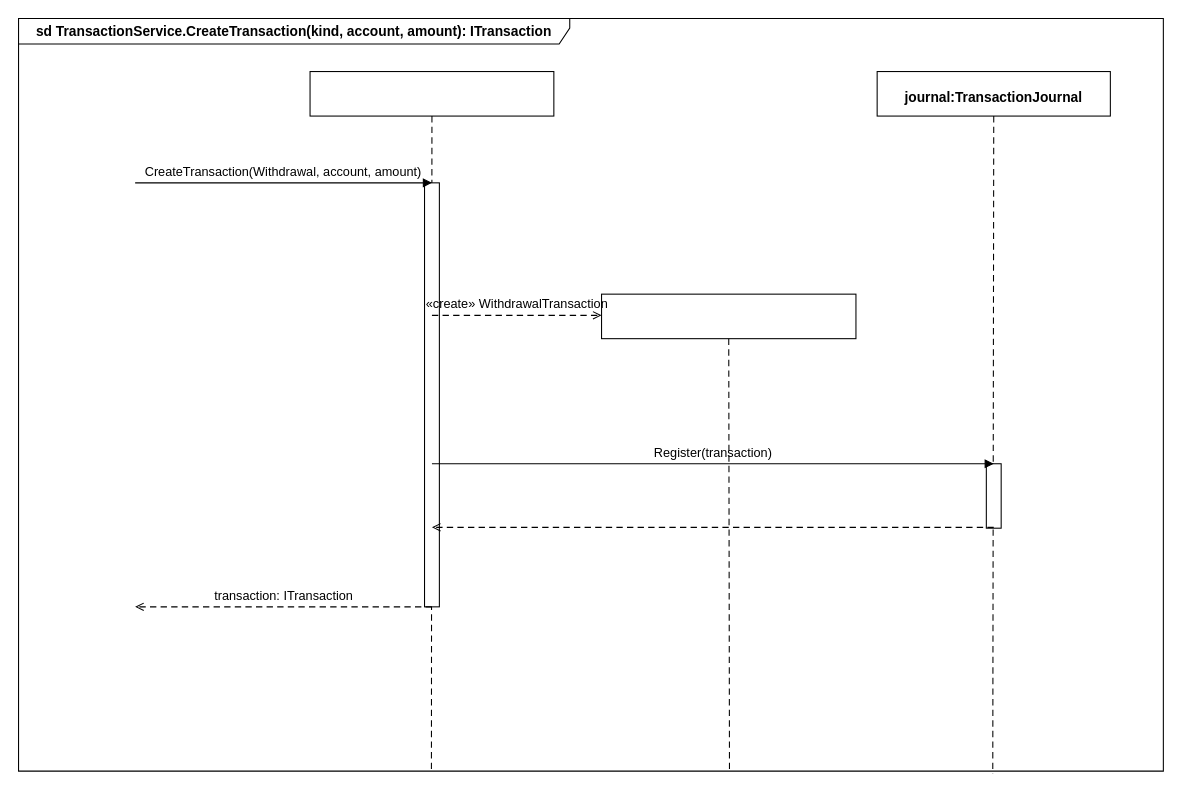
Image size: 1182x794. Some labels were removed from this diagram. The shapes that lost their labels are listed below. From the top down, each one's centre as x and y in pixels, then its label:
At (431,93): "service:TransactionService".
At (728,316): "transaction:WithdrawalTransaction".
